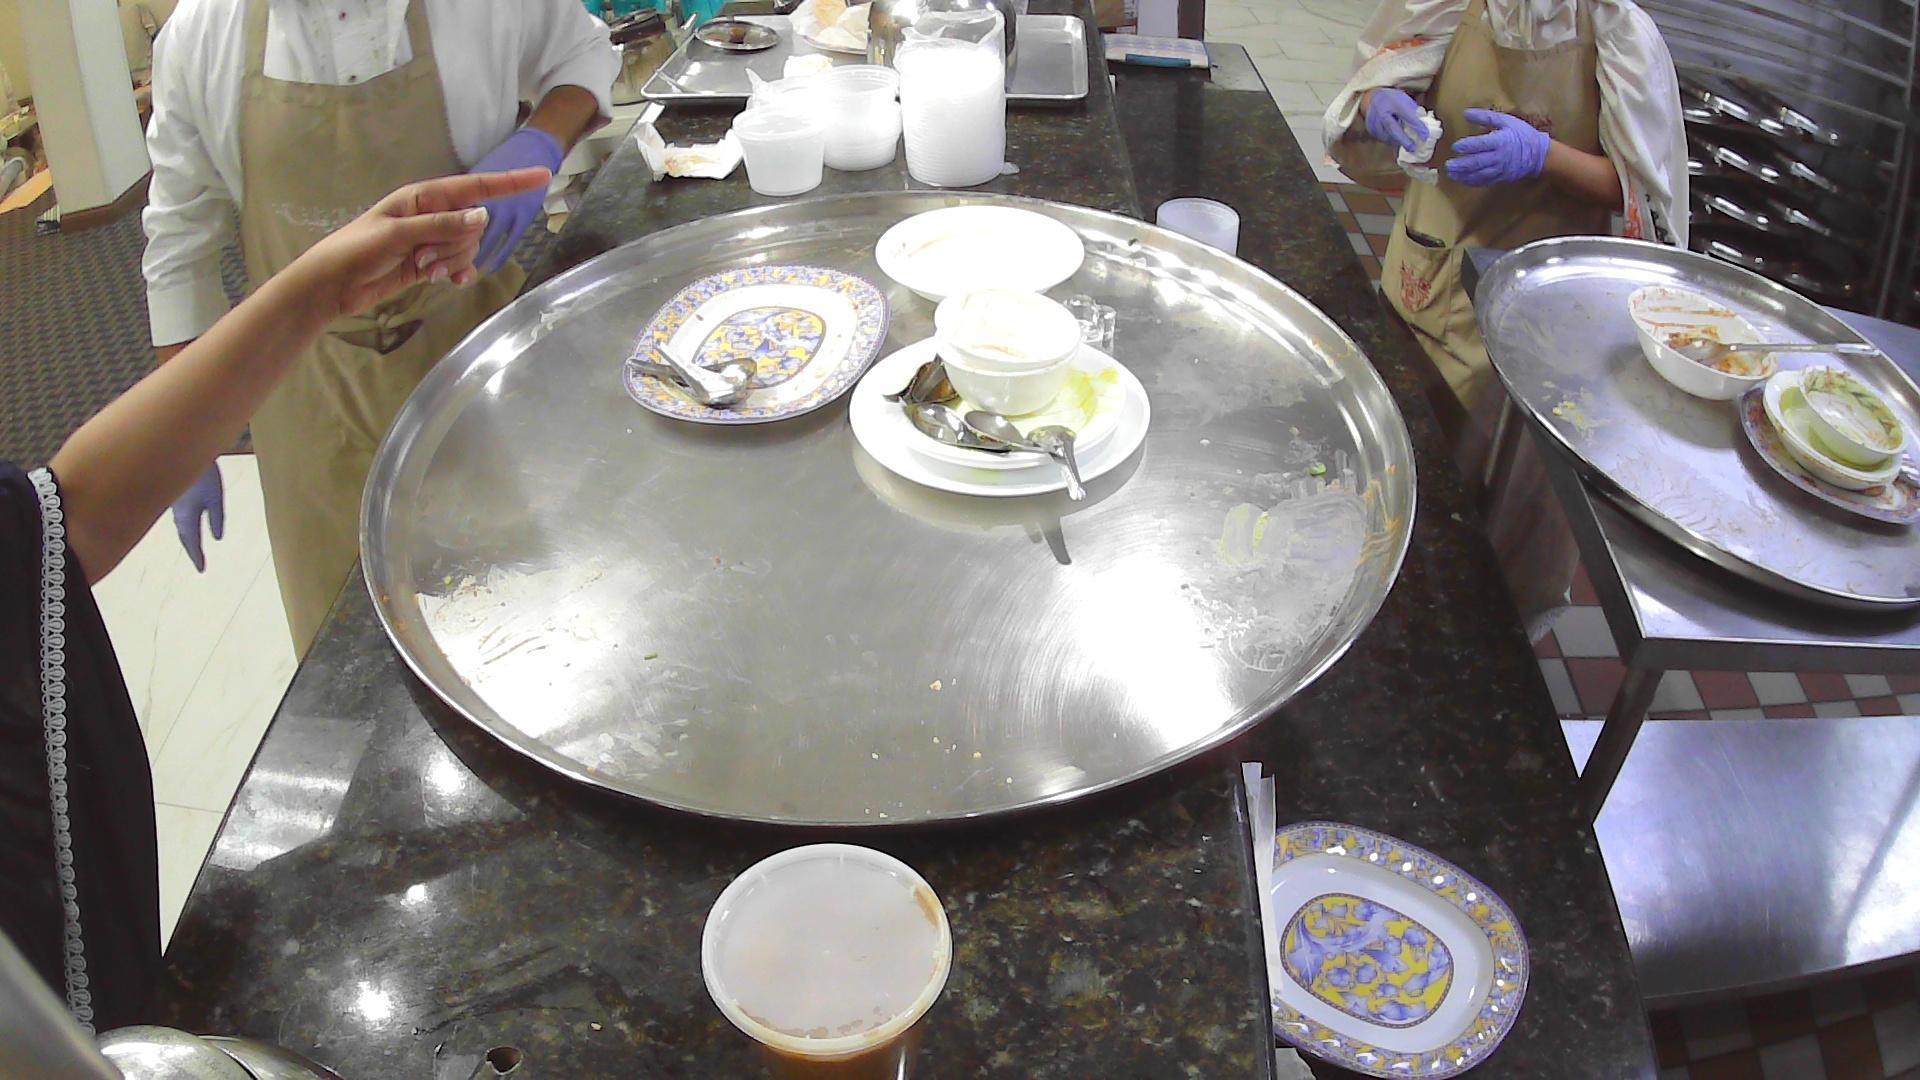thaal: (353, 185, 1422, 848), (1466, 225, 1920, 629)
